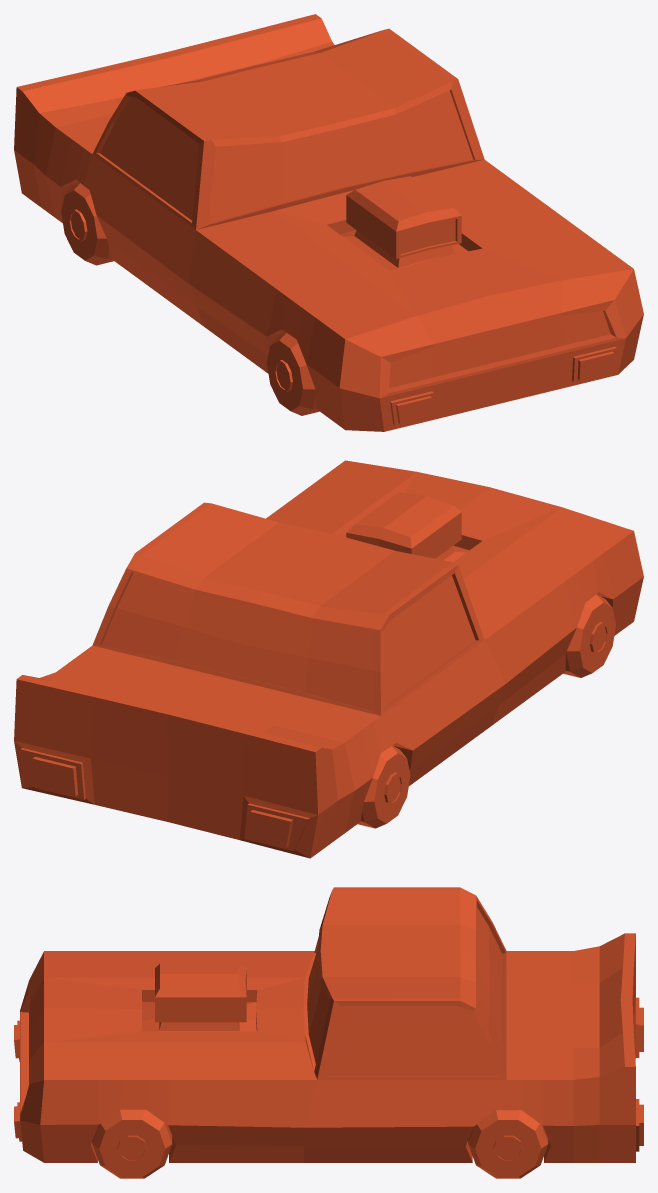
The model's file is coupe.glb.
3 views of the same model, one above another, from view 1: azimuth 30°, elevation 25°; view 2: azimuth 150°, elevation 25°; view 3: azimuth 270°, elevation 25° (orthographic). The views are drawn at different scales.
Parts seen in each view (by area): view 1: Cube, FrontWheels, FrontWheels001; view 2: Cube, FrontWheels, FrontWheels001; view 3: Cube, FrontWheels, FrontWheels001.
Part boxes in pixels (<box>): Cube: <box>14,14,643,431</box>; FrontWheels: <box>266,332,319,415</box>; FrontWheels001: <box>61,182,113,265</box>; Cube: <box>14,460,643,858</box>; FrontWheels: <box>563,594,615,677</box>; FrontWheels001: <box>357,745,410,828</box>; Cube: <box>14,887,643,1162</box>; FrontWheels: <box>92,1109,172,1178</box>; FrontWheels001: <box>468,1110,548,1178</box>.
Size of the model in its own units: 263 by 145 by 491.
